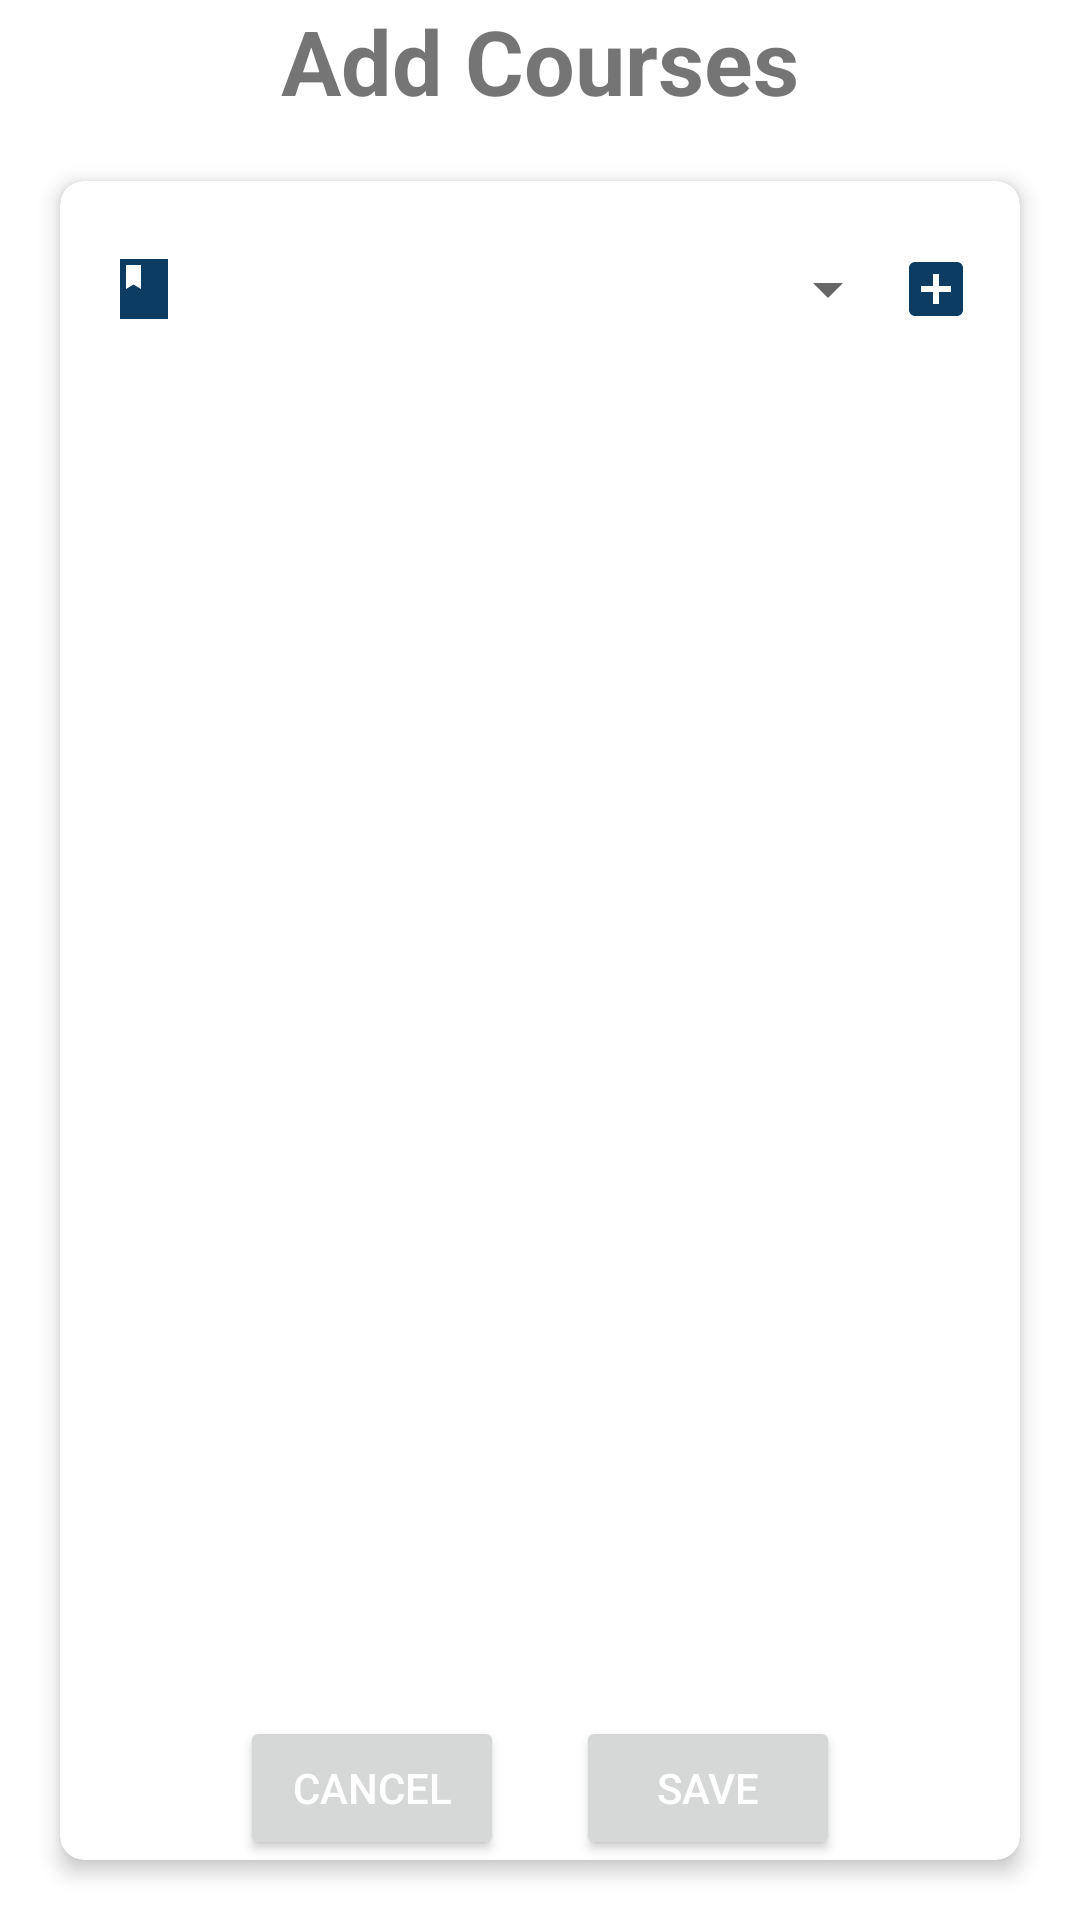

Icons on this 1080×1920 Android screen, each with the point to tap as (x,y):
add box: (936,289)
class: (144,289)
